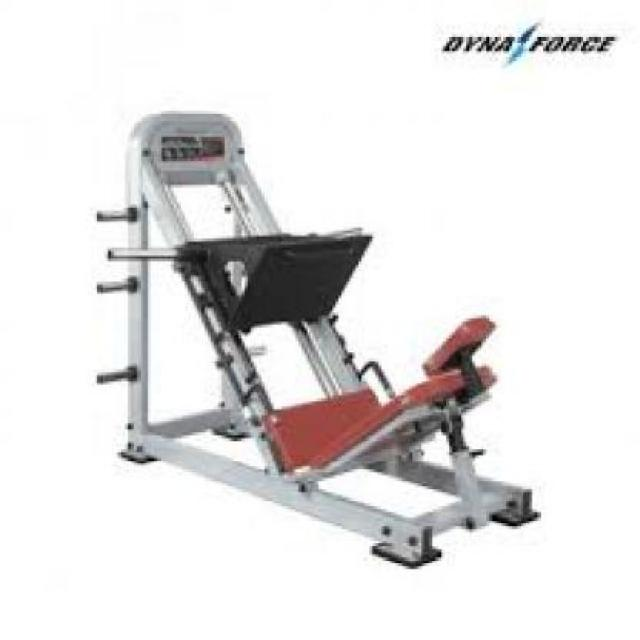leg press: (58, 101, 570, 594)
